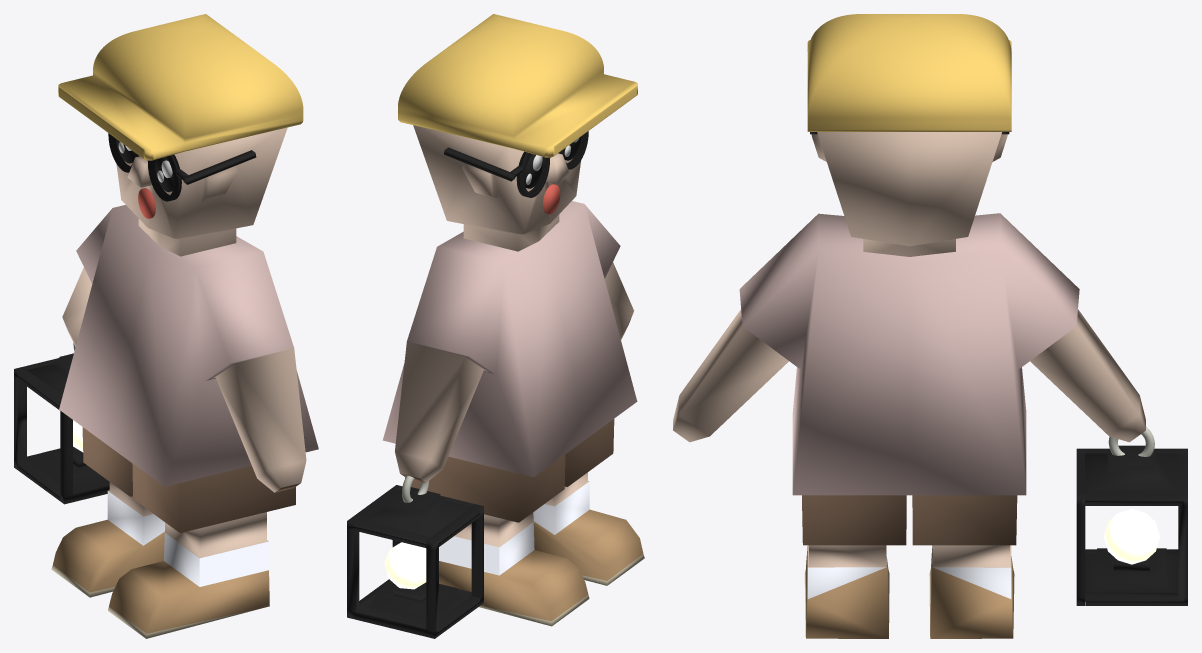
File: boy.gltf
3 renders of one model, left to right at view 1: azimuth 30°, elevation 25°; view 2: azimuth 150°, elevation 25°; view 3: azimuth 270°, elevation 25°, orthographic. The views are drawn at different scales.
Parts seen in each view (by area): view 1: boy-body, boy-cap, boy-head, old-lamp, glass-frame.006, glass-frame.002, boy-eye-pupil.004; view 2: boy-body, boy-cap, old-lamp, boy-head, old-lamp-light-bud, glass-frame.005, glass-frame; view 3: boy-body, boy-cap, boy-head, old-lamp, old-lamp-light-bud.
Boxes of the visible parts, box(x1,y1,x2,y2) form: boy-body: box(51, 205, 318, 638); boy-cap: box(58, 14, 303, 160); boy-head: box(116, 127, 287, 256); old-lamp: box(14, 353, 109, 504); glass-frame.006: box(148, 154, 181, 201); glass-frame.002: box(183, 150, 256, 184); boy-eye-pupil.004: box(138, 188, 155, 218); boy-body: box(382, 201, 644, 626); boy-cap: box(398, 14, 637, 157); old-lamp: box(347, 485, 483, 638); boy-head: box(413, 125, 580, 251); old-lamp-light-bud: box(384, 542, 426, 589); glass-frame.005: box(516, 151, 549, 197); glass-frame: box(444, 147, 515, 181); boy-body: box(673, 213, 1145, 638); boy-cap: box(807, 14, 1011, 131); boy-head: box(811, 132, 1007, 256); old-lamp: box(1076, 445, 1187, 605); old-lamp-light-bud: box(1104, 509, 1159, 564).
Size of the model in its own units: 0.9613 by 3.01 by 2.32.
